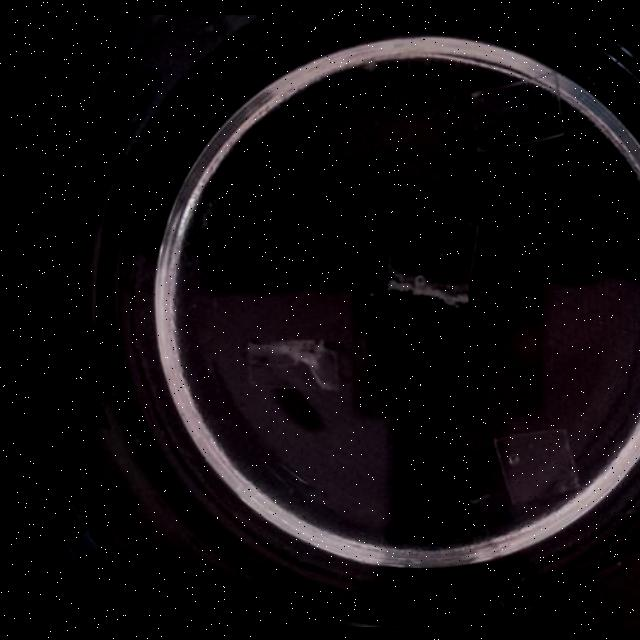Film: (380, 198, 482, 304), (464, 73, 564, 151), (492, 424, 582, 506), (243, 336, 345, 394)
